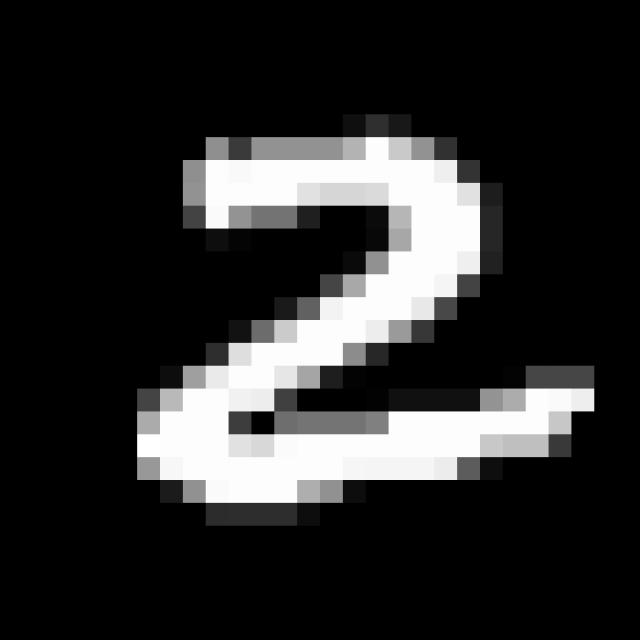two -2-: (128, 119, 612, 520)
